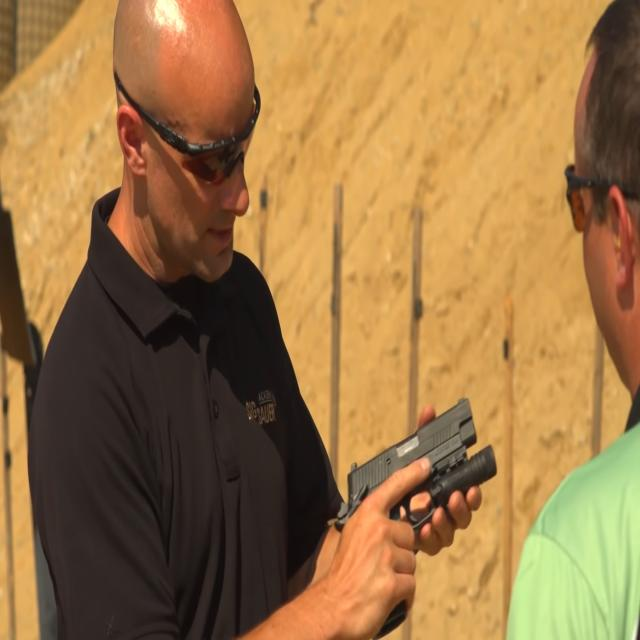Gun_Holder: (332, 384, 507, 602)
Person: (31, 0, 404, 640)
